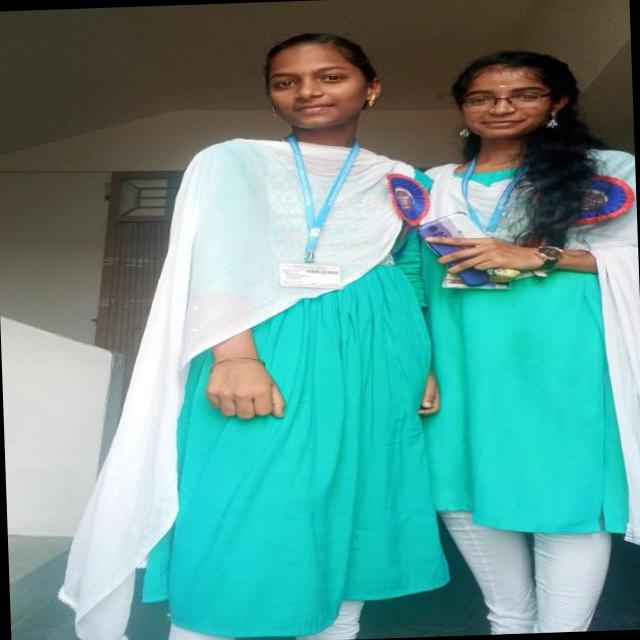id_card: (266, 132, 366, 294), (438, 148, 527, 294)
